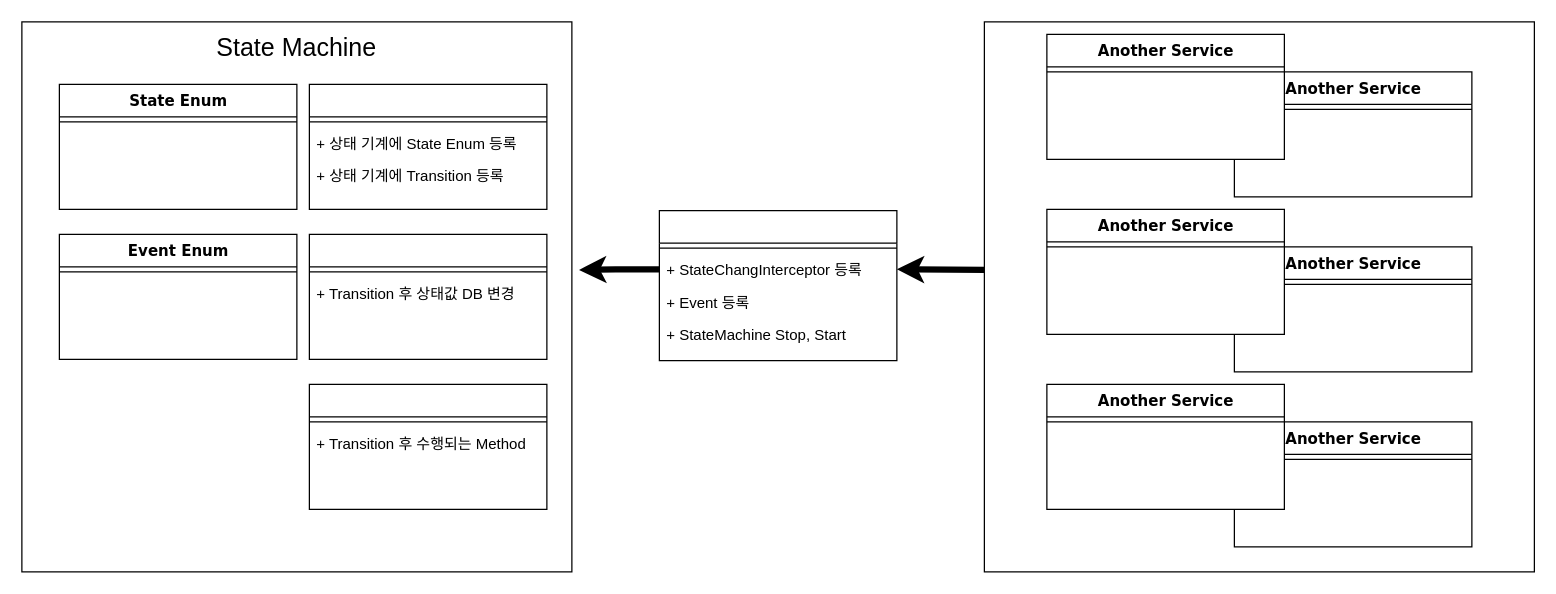
Image size: 1556x594. Some labels were removed from this diagram. The box of each missing label's shape, as (x1, y1, x2, y2) in pixels:
StateActionService: (308, 383, 547, 509)
StateChangInterceptor: (308, 233, 547, 359)
StateEventService: (658, 209, 897, 361)
StateMachinConfig: (308, 83, 547, 209)
